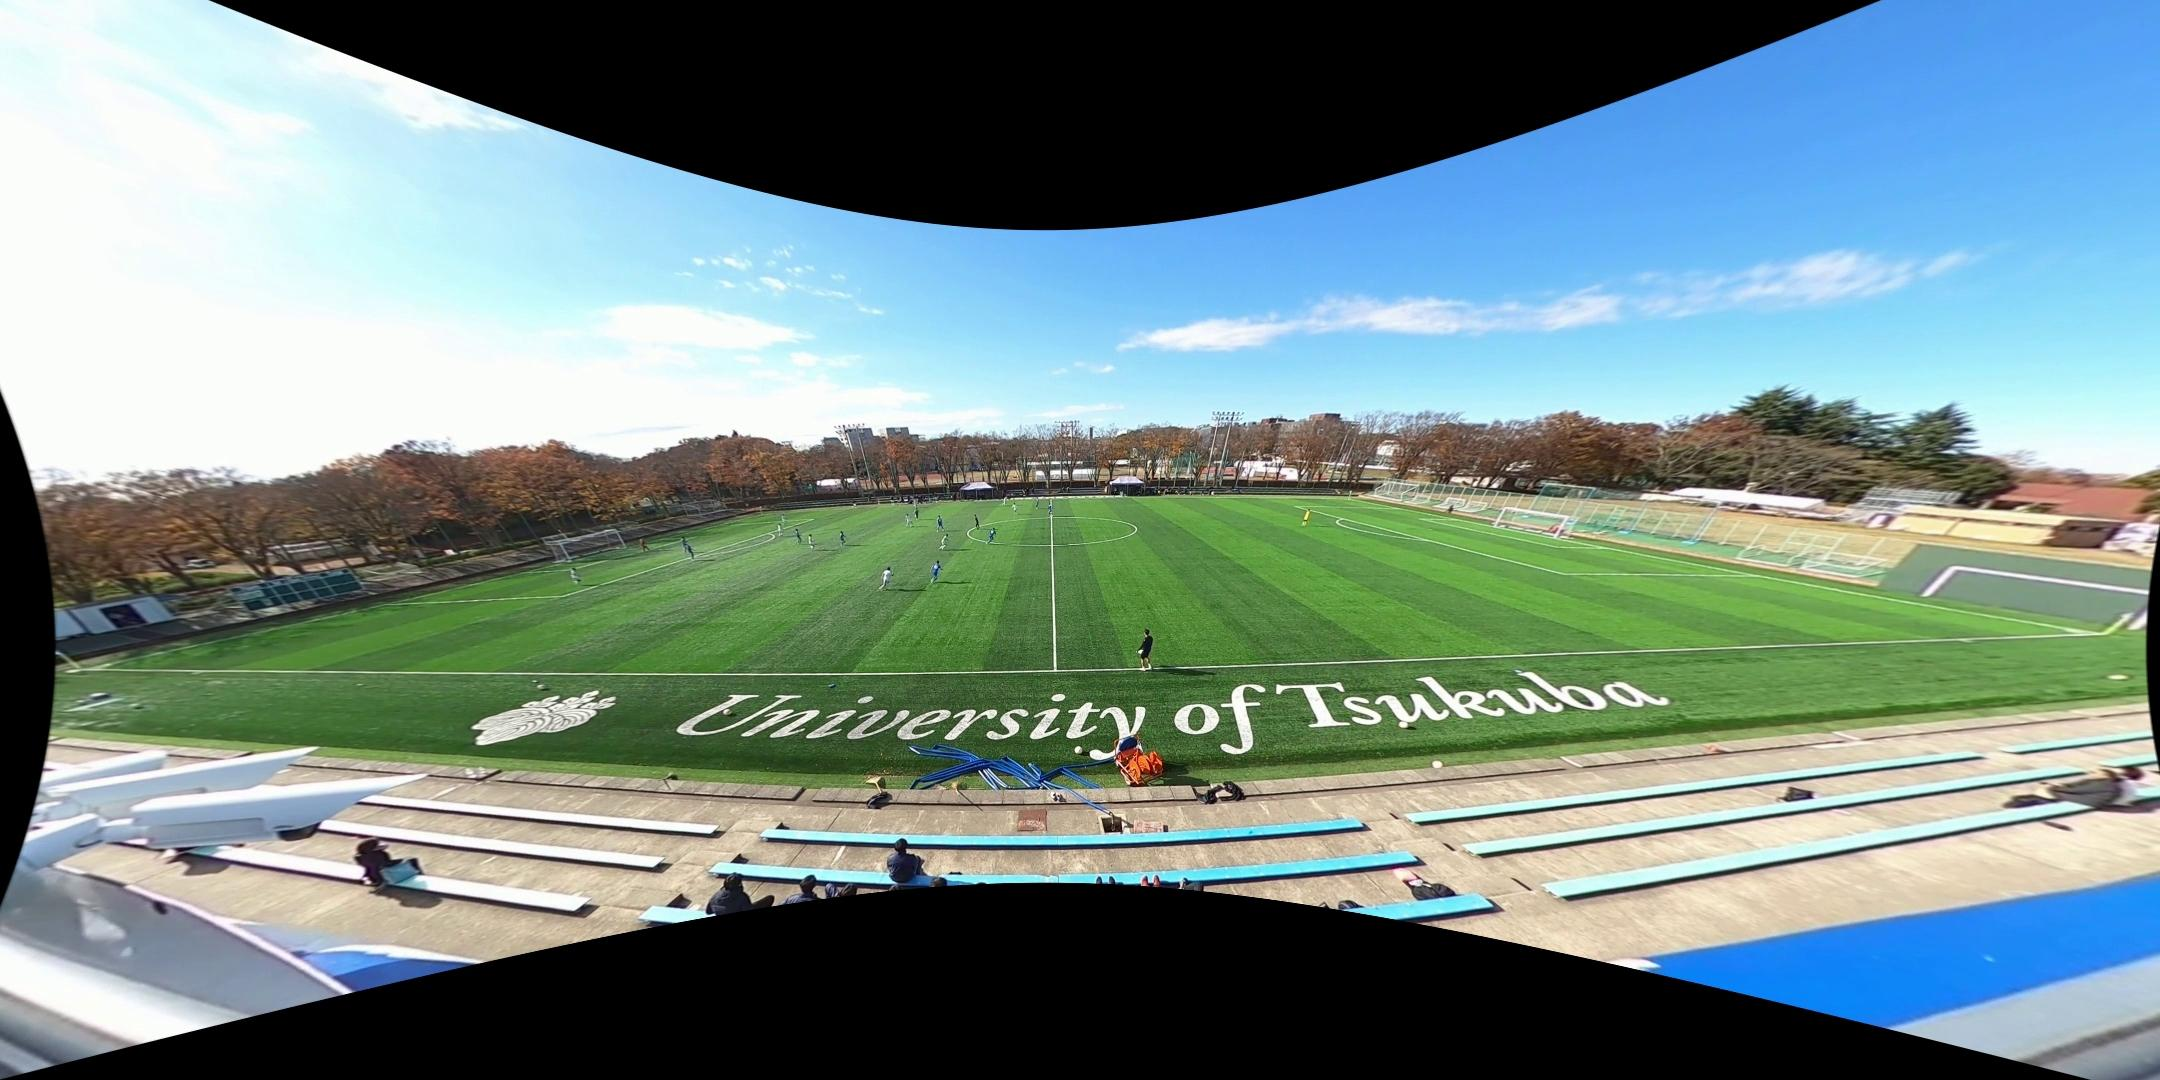person: (1137, 628, 1155, 671), (879, 566, 892, 591), (930, 560, 943, 582), (637, 535, 650, 553), (569, 567, 582, 585), (681, 535, 691, 553), (987, 528, 997, 546), (940, 533, 949, 552), (686, 544, 696, 561), (838, 530, 848, 547), (1301, 509, 1311, 526), (936, 515, 945, 533), (807, 534, 816, 551), (794, 528, 802, 545), (780, 513, 789, 527), (905, 514, 914, 528), (973, 513, 980, 528), (775, 524, 784, 535), (914, 506, 920, 521), (1011, 504, 1019, 515), (1048, 505, 1054, 517), (1035, 497, 1040, 510), (852, 499, 857, 509), (1002, 497, 1008, 505)
sports ball: (908, 523, 914, 529)
